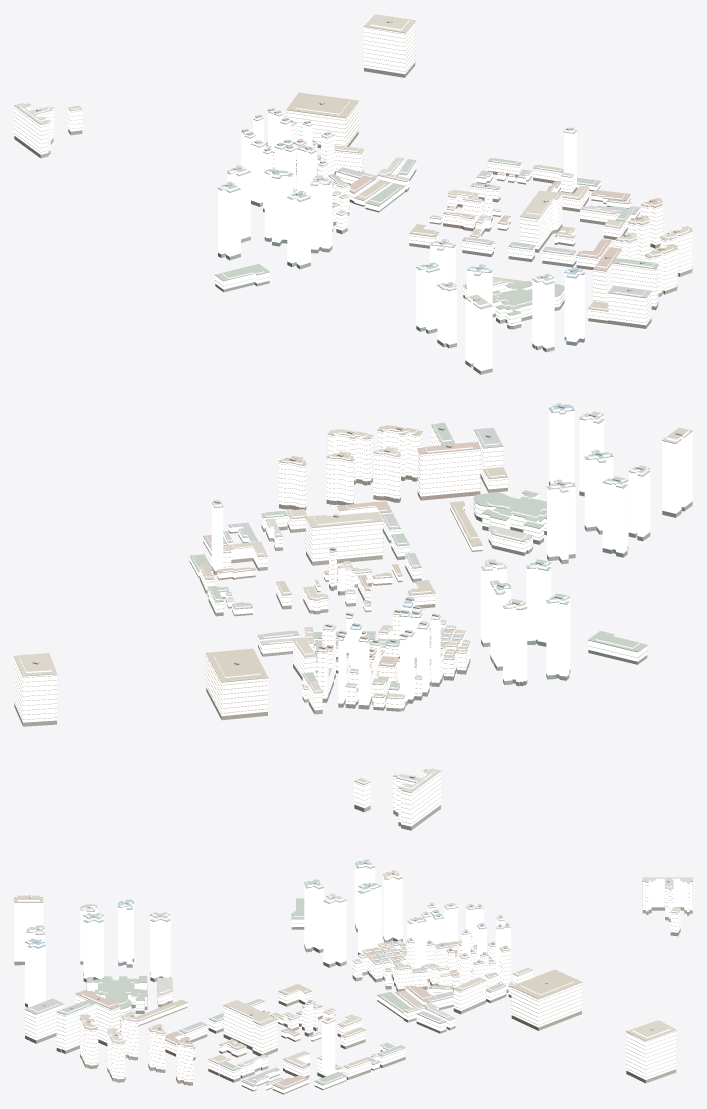
File: buildings--11_3-fine.glb
3 renders of one model, top to bottom at view 1: azimuth 30°, elevation 25°; view 2: azimuth 150°, elevation 25°; view 3: azimuth 270°, elevation 25°, orthographic. The views are drawn at different scales.
Visible parts, largest first — view 1: block_-11_3_residential, block_-11_3_office, block_-11_3_roof, block_-11_3_darkglass, block_-11_3_concrete; view 2: block_-11_3_residential, block_-11_3_office, block_-11_3_roof, block_-11_3_darkglass, block_-11_3_concrete; view 3: block_-11_3_residential, block_-11_3_office, block_-11_3_roof, block_-11_3_darkglass, block_-11_3_concrete, block_-11_3_steel.
Part boxes in pixels (x1,y1,x2,y2): block_-11_3_residential: (14, 20, 692, 325); block_-11_3_office: (218, 110, 584, 370); block_-11_3_roof: (14, 14, 692, 325); block_-11_3_darkglass: (14, 62, 692, 374); block_-11_3_concrete: (14, 20, 692, 323); block_-11_3_residential: (14, 424, 647, 826); block_-11_3_office: (211, 404, 692, 705); block_-11_3_roof: (14, 403, 692, 823); block_-11_3_darkglass: (14, 474, 692, 830); block_-11_3_concrete: (14, 423, 647, 823); block_-11_3_residential: (25, 878, 692, 1093); block_-11_3_office: (14, 861, 510, 1076); block_-11_3_roof: (14, 859, 692, 1089); block_-11_3_darkglass: (14, 907, 692, 1094); block_-11_3_concrete: (25, 881, 692, 1089); block_-11_3_steel: (14, 866, 510, 1023).
Bounding box in the file's own units: 405 × 68.46 × 628.
